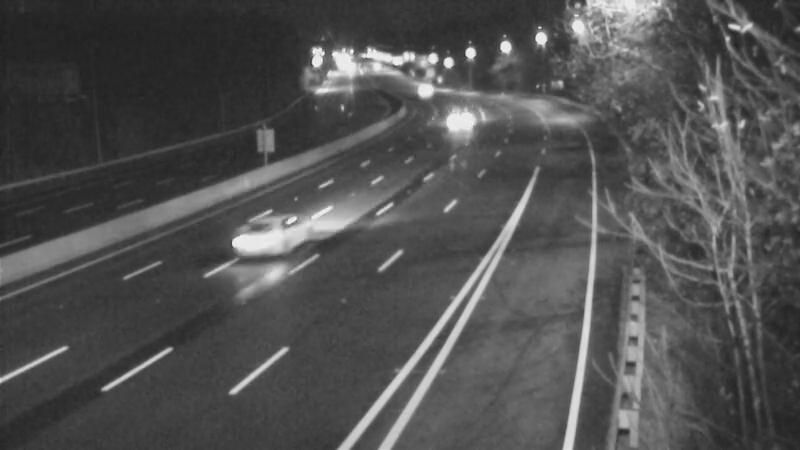vehicle: (218, 195, 298, 275), (398, 67, 448, 117), (441, 90, 491, 140)
